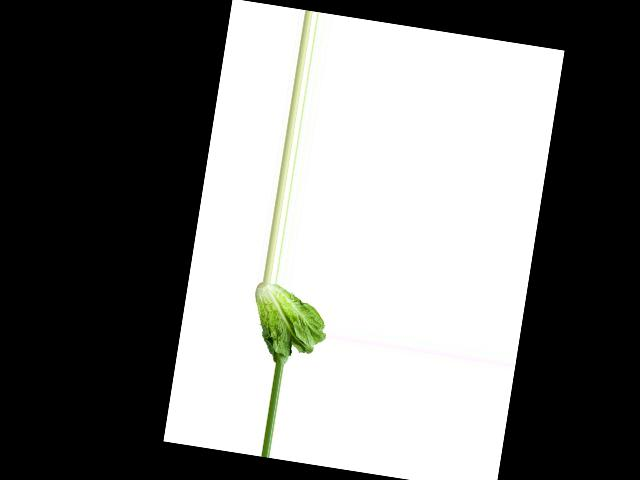lettuce: (244, 281, 333, 368)
